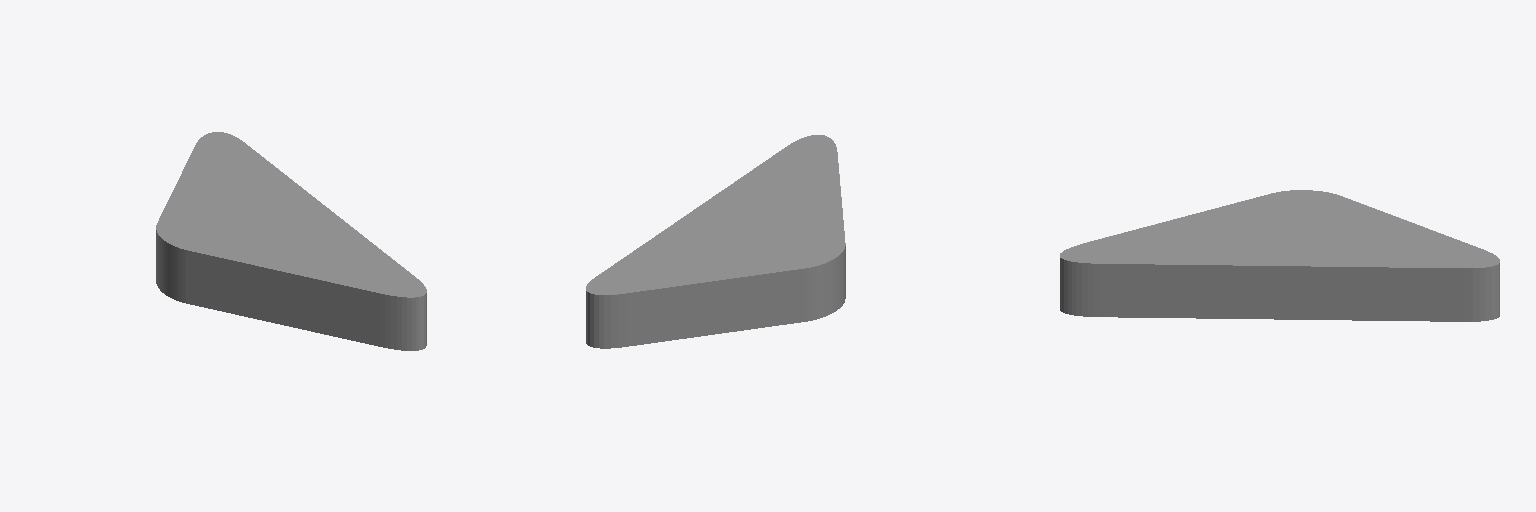
File: Bumper2.obj
3 views of the same model, side by side, from view 1: azimuth 30°, elevation 25°; view 2: azimuth 150°, elevation 25°; view 3: azimuth 270°, elevation 25° (orthographic).
Visible parts, largest first — view 1: Cube; view 2: Cube; view 3: Cube.
Boxes of the visible parts, box(x1,y1,x2,y2) form: Cube: box(156, 132, 426, 350); Cube: box(586, 135, 845, 348); Cube: box(1060, 190, 1499, 321).
Size of the model in its own units: 1 by 0.3182 by 2.38.